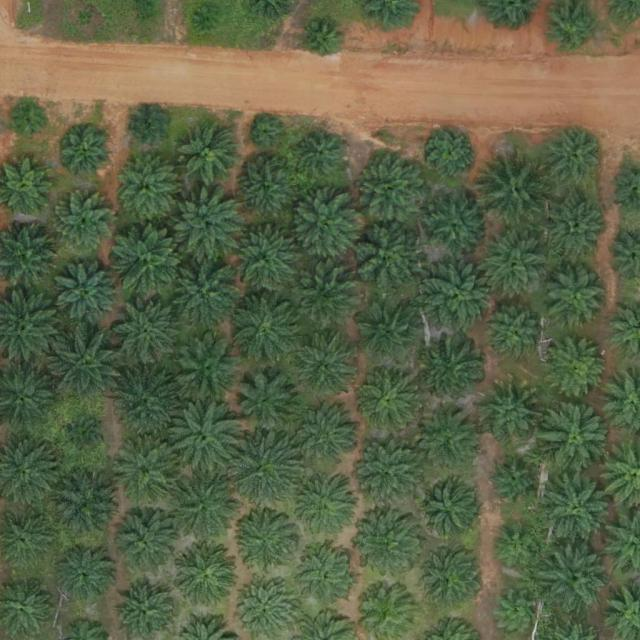Healthy: (48, 327, 126, 406), (111, 222, 189, 301), (109, 365, 187, 444), (163, 252, 241, 331), (169, 397, 247, 476), (229, 291, 307, 370), (226, 432, 304, 511), (354, 149, 432, 228), (346, 219, 424, 298), (349, 436, 427, 515), (421, 259, 499, 338), (478, 150, 556, 229), (476, 227, 554, 306), (539, 399, 617, 478), (539, 470, 617, 549), (167, 468, 245, 547), (226, 224, 304, 302), (286, 471, 357, 542), (111, 295, 181, 366), (114, 437, 184, 508), (172, 335, 243, 405), (540, 543, 611, 613), (351, 513, 422, 583), (53, 469, 123, 540), (54, 260, 124, 330), (172, 190, 242, 260), (232, 370, 302, 440), (290, 192, 360, 262), (291, 262, 361, 332), (294, 404, 364, 474), (234, 158, 297, 221), (359, 367, 422, 430), (547, 339, 610, 402), (417, 548, 480, 611), (295, 546, 358, 609), (174, 547, 237, 610), (51, 193, 113, 256), (116, 156, 178, 219), (179, 124, 241, 187), (359, 304, 421, 367), (425, 194, 487, 257), (426, 339, 488, 402), (419, 404, 481, 467), (483, 381, 545, 444), (546, 199, 608, 262), (416, 478, 478, 541), (234, 511, 296, 574), (112, 512, 174, 575), (54, 547, 117, 609), (544, 127, 606, 189), (546, 266, 608, 328), (60, 127, 115, 182), (298, 339, 353, 394), (488, 308, 543, 363), (299, 132, 346, 179), (429, 130, 476, 177), (490, 460, 537, 507)
Small: (495, 589, 542, 636), (494, 524, 541, 571), (11, 103, 50, 143), (67, 418, 106, 458), (303, 22, 342, 61), (130, 108, 169, 147), (252, 119, 283, 150), (197, 7, 221, 31), (79, 11, 94, 27)
